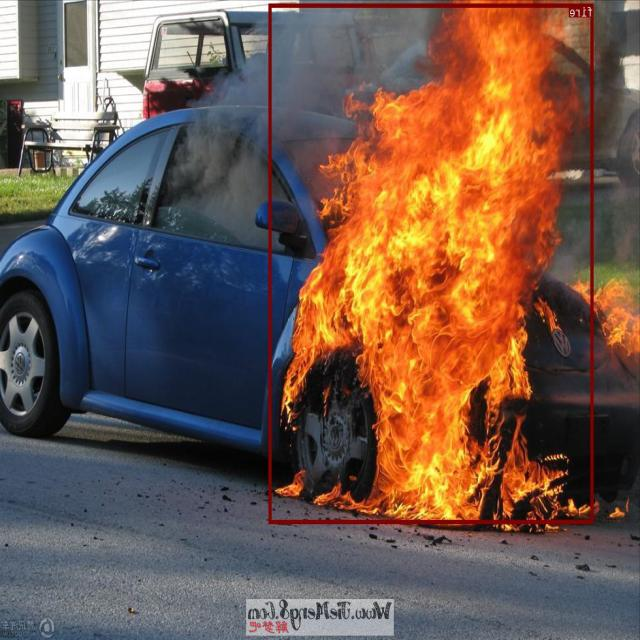fire: (269, 3, 594, 523)
